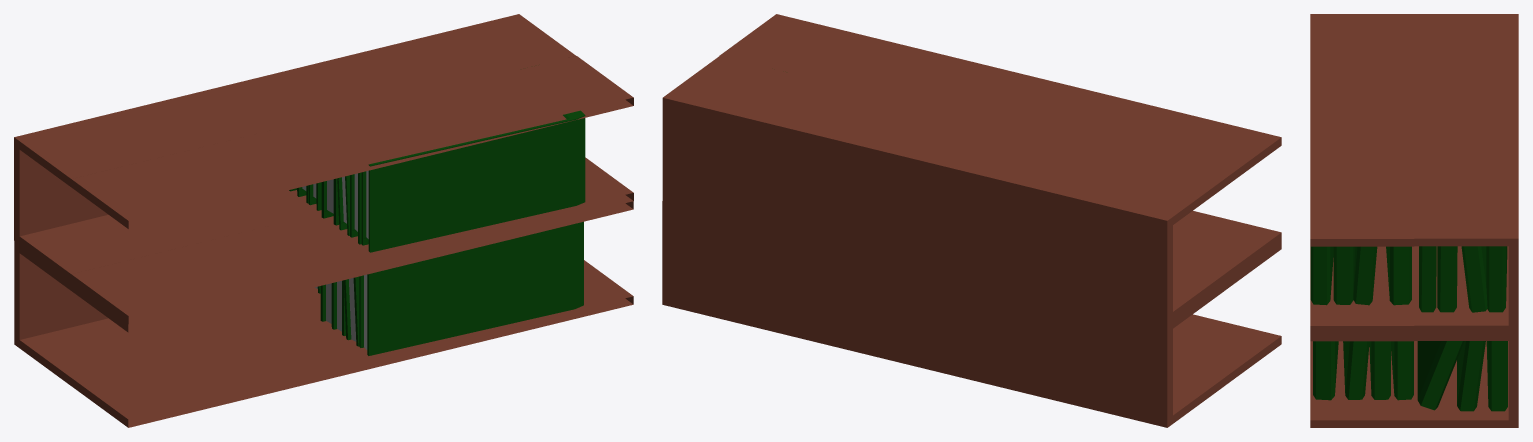
The model's file is LibShelf_Right 1.fbx.
The picture shows the model from 3 angles, left to right: view 1: azimuth 30°, elevation 25°; view 2: azimuth 150°, elevation 25°; view 3: azimuth 270°, elevation 25°; orthographic projection. The views are drawn at different scales.
Visible parts, largest first — view 1: LibraryBookshelf_RightNEW; view 2: LibraryBookshelf_RightNEW; view 3: LibraryBookshelf_RightNEW.
Boxes of the visible parts, box(x1,y1,x2,y2) form: LibraryBookshelf_RightNEW: box(14, 14, 633, 427); LibraryBookshelf_RightNEW: box(662, 14, 1281, 427); LibraryBookshelf_RightNEW: box(1310, 14, 1518, 427).
Size of the model in its own units: 511 by 200 by 200.
